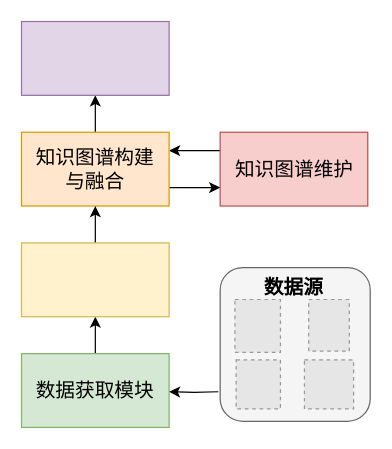
The diagram is 392 pixels wide and 449 high, and some of its shapes have lost their labels. Grey dashed boxes stand in for pictures. The centre of each missing label's shape, as x and y in pixels:
"实体关系抽取" belongs at (x=94, y=279).
"知识图谱 可视化" belongs at (x=94, y=57).
